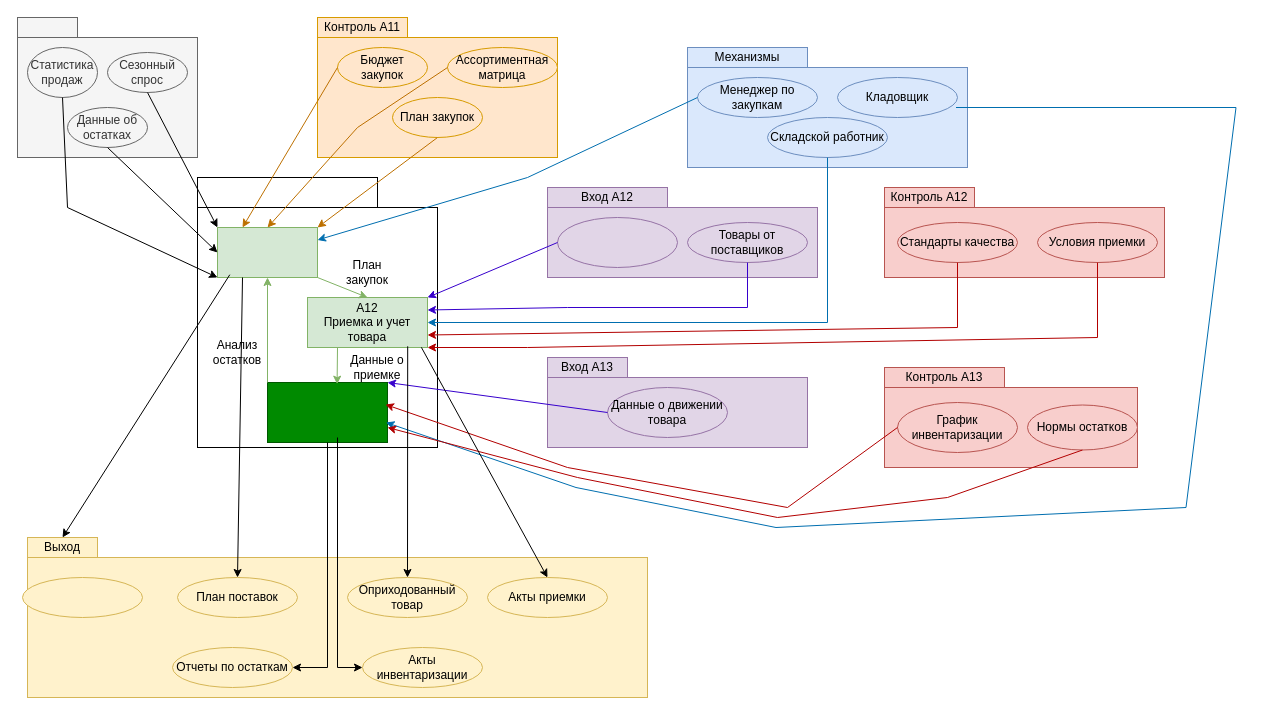
This 1262x715 diagram has some shape labels left out. The shapes that lost their labels are listed below. From the top down, each one's centre as x and y in pixels, then its label:
At (47,27): "Вход А11".
At (287,192): "А1: Управление товарными запасами".
At (267,252): "А11 Планирование закупок".
At (617,242): "Сопроводительные документы".
At (327,412): "А13 Учет остатков и инвертаризация".
At (82,597): "Заявки поставщиков".
